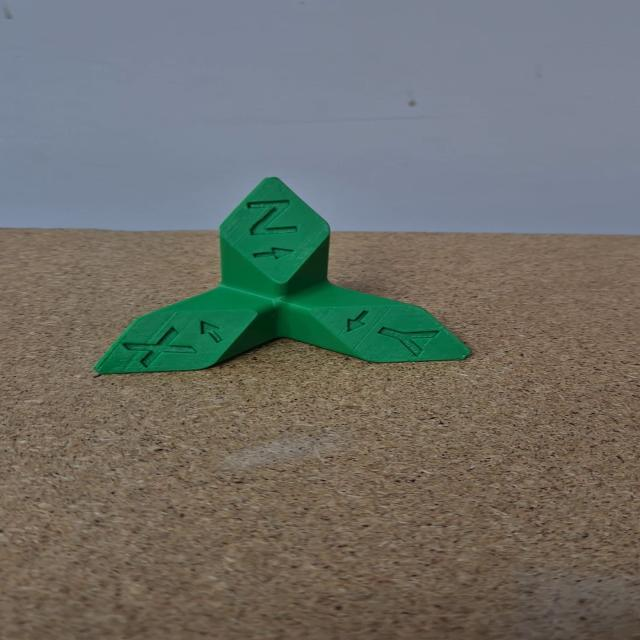objects: (87, 172, 480, 379)
